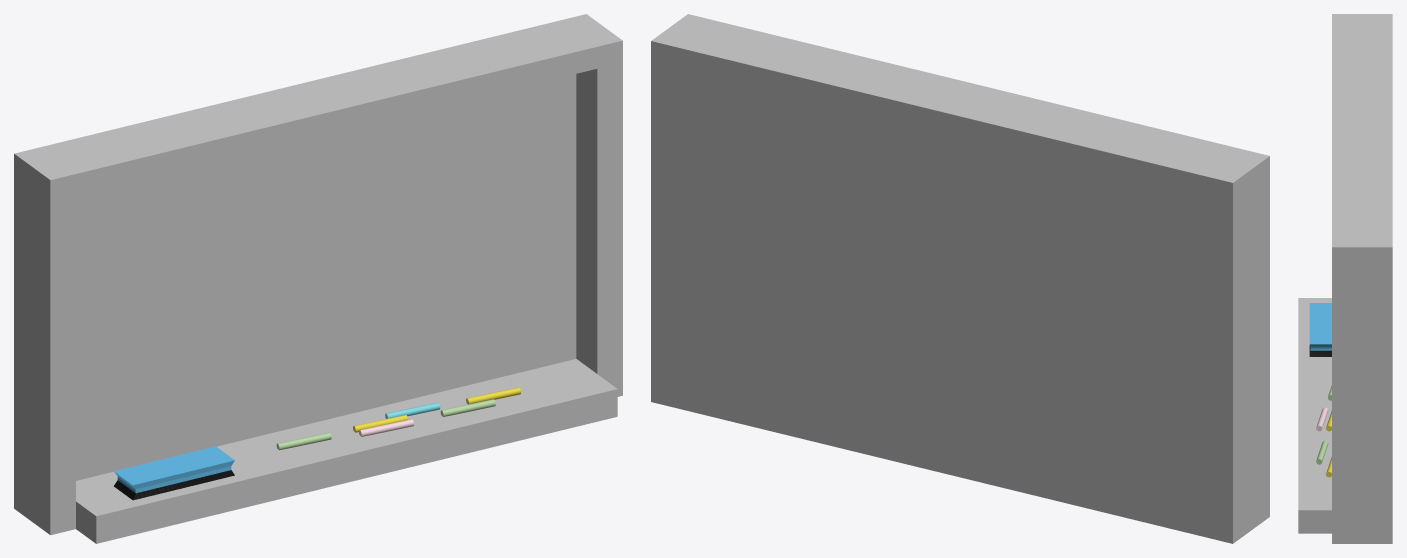
The model's file is Quadro.fbx.
3 views of the same model, side by side, from view 1: azimuth 30°, elevation 25°; view 2: azimuth 150°, elevation 25°; view 3: azimuth 270°, elevation 25° (orthographic). The views are drawn at different scales.
Parts seen in each view (by area): view 1: Quadro; view 2: Quadro; view 3: Quadro.
Part boxes in pixels (x1,y1,x2,y2): Quadro: [14, 14, 622, 543]; Quadro: [651, 14, 1269, 543]; Quadro: [1298, 14, 1392, 543].
Size of the model in its own units: 700 by 415 by 120.
